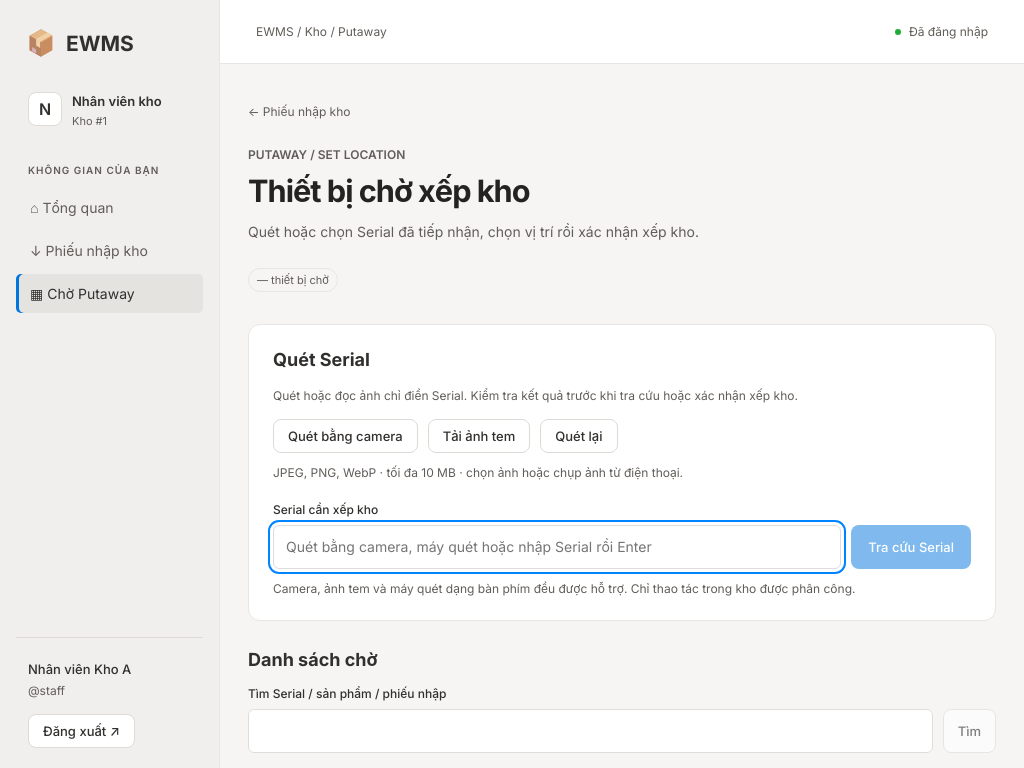
preserves reserved URL characters in scanner input and states honestly when claim/stocktake checks are unavailable
Type "SN/A?x=%#1" into the field labelled "Serial cần xếp kho" at (557, 547), box [273,525,841,569]
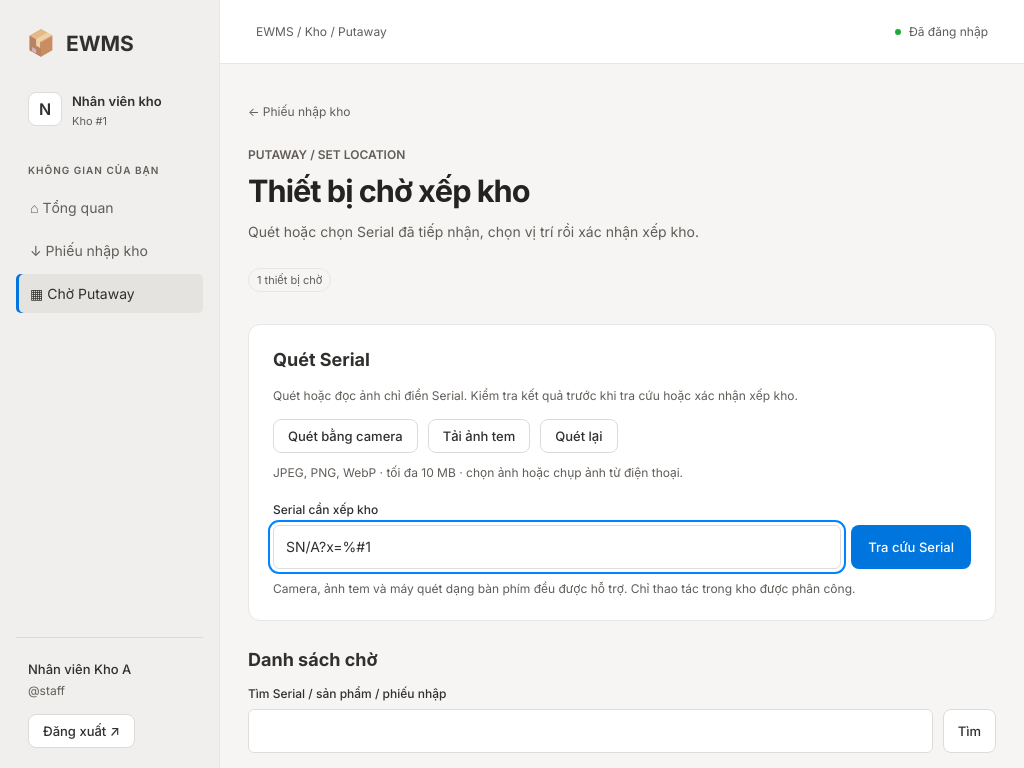
Submit the form named "Tra cứu Serial", box [273,386,971,569]
(page scrolled)
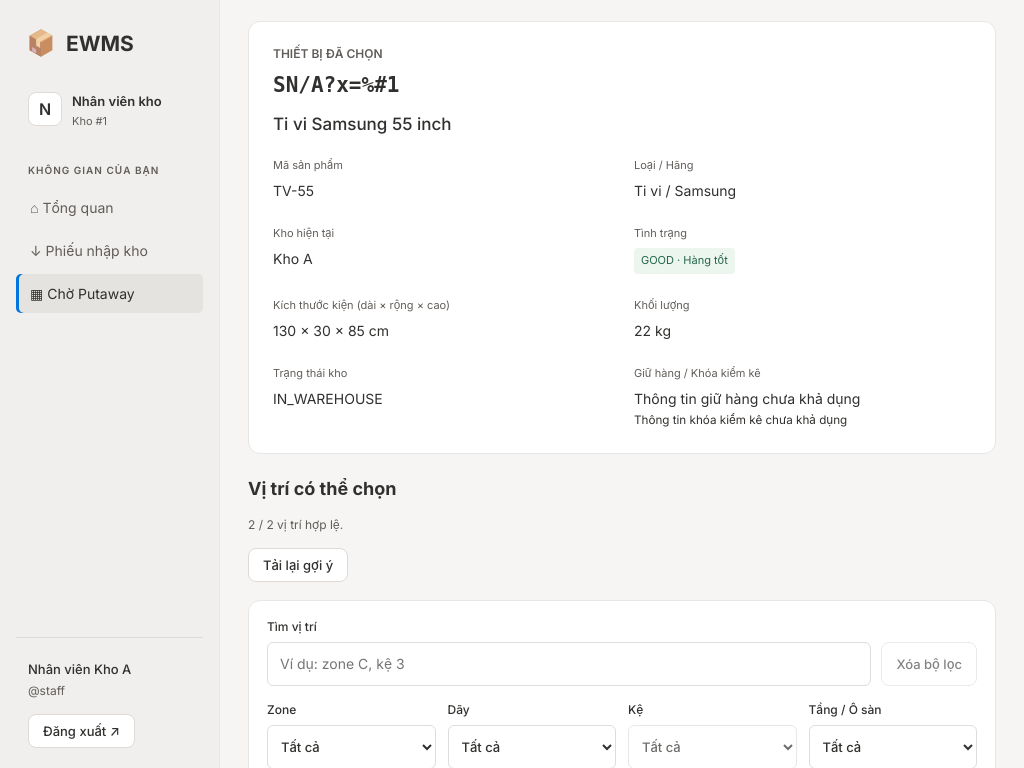
Check: the text "Thông tin khóa kiểm kê chưa khả dụng" is shown, box [634,412,847,426]
